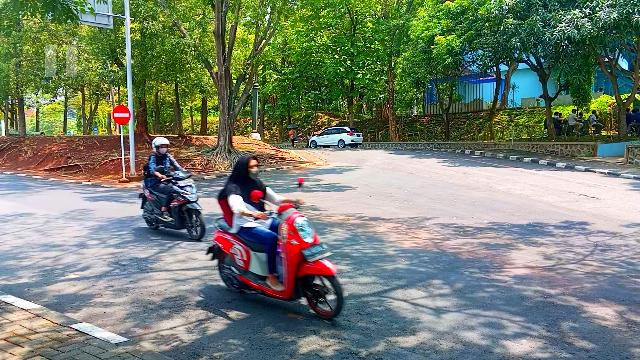helm: (154, 138, 170, 156)
motor: (208, 204, 344, 321), (139, 172, 207, 241)
non-helm: (239, 157, 259, 180)
